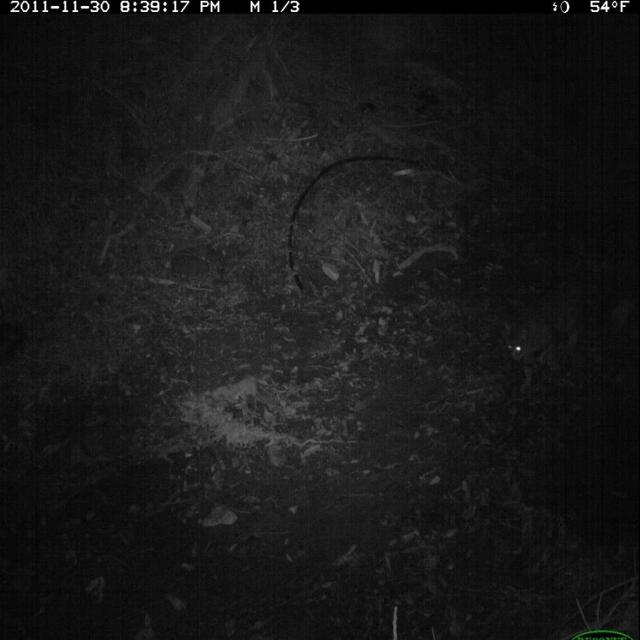cat: (506, 274, 596, 389)
